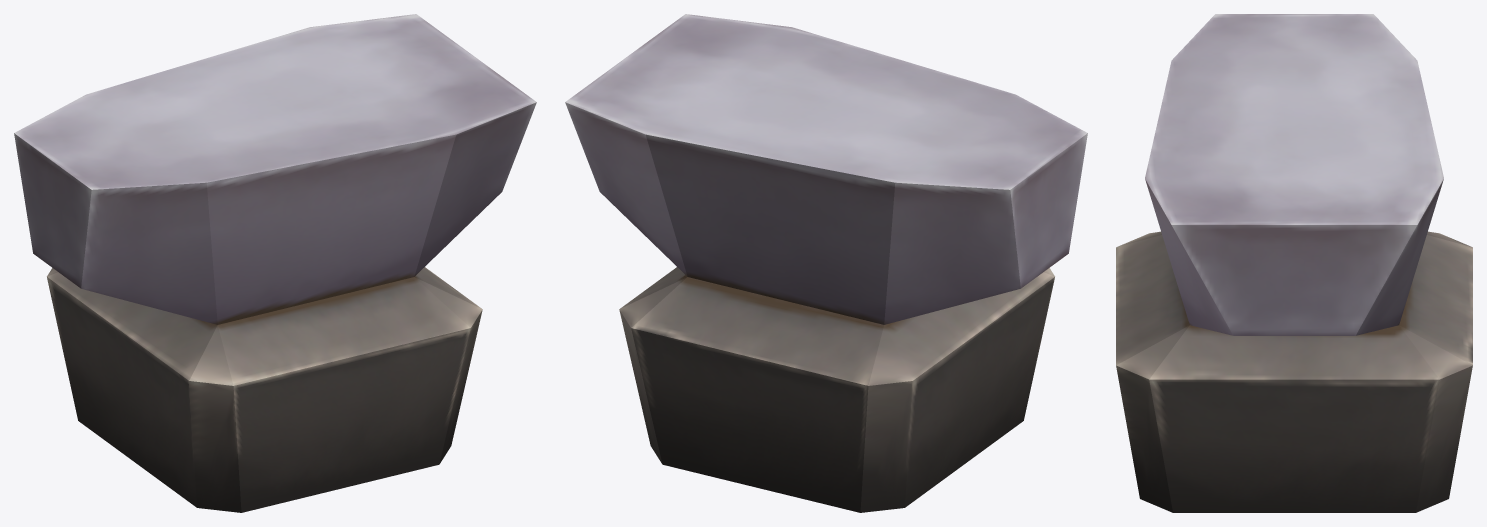
Rendered from Dwarf_Village_Props_02.FBX.
3 views of the same model, side by side, from view 1: azimuth 30°, elevation 25°; view 2: azimuth 150°, elevation 25°; view 3: azimuth 270°, elevation 25° (orthographic). The views are drawn at different scales.
Parts seen in each view (by area): view 1: Dwarf_Village_Props_02; view 2: Dwarf_Village_Props_02; view 3: Dwarf_Village_Props_02.
Boxes of the visible parts, box(x1,y1,x2,y2) form: Dwarf_Village_Props_02: box(14, 14, 536, 512); Dwarf_Village_Props_02: box(565, 14, 1087, 512); Dwarf_Village_Props_02: box(1116, 14, 1472, 512).
Bounding box in the file's own units: 170 × 124 × 122.
